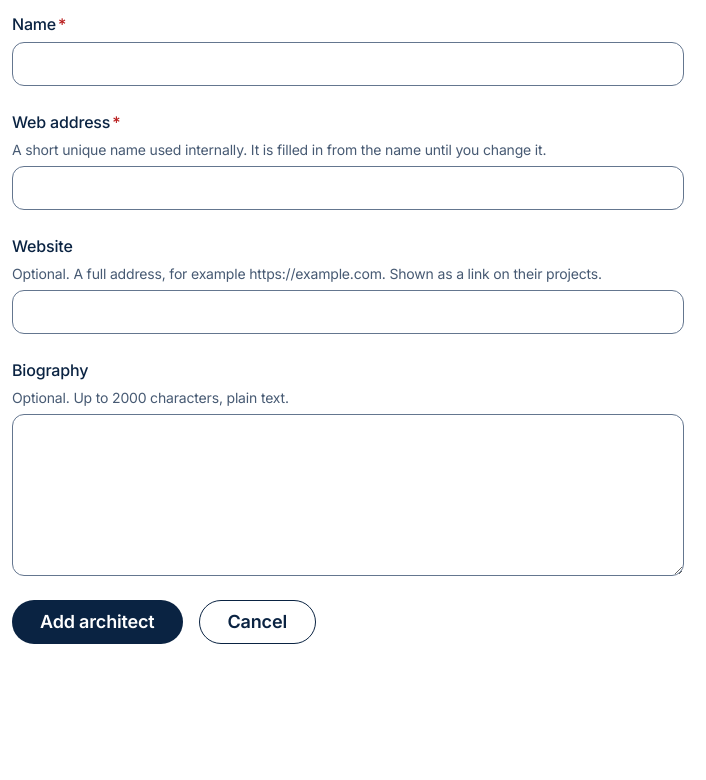
Test: ArchitectForm › lists problems with links to their fields and keeps what was typed
Click the button "Add architect": (97, 622) [12,600,182,644]
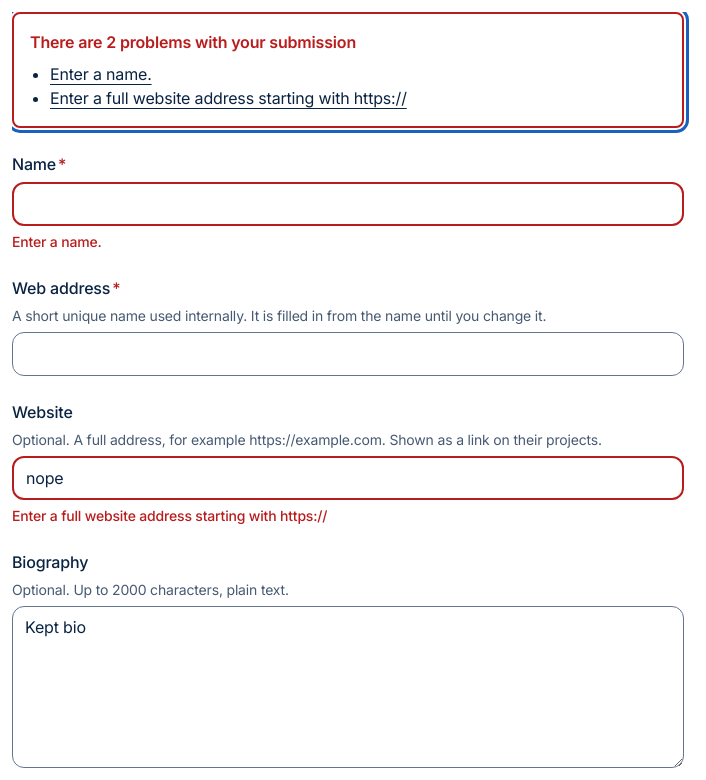
Expected: the text box labelled "Biography" holds "Kept bio", [12,606,684,768]
